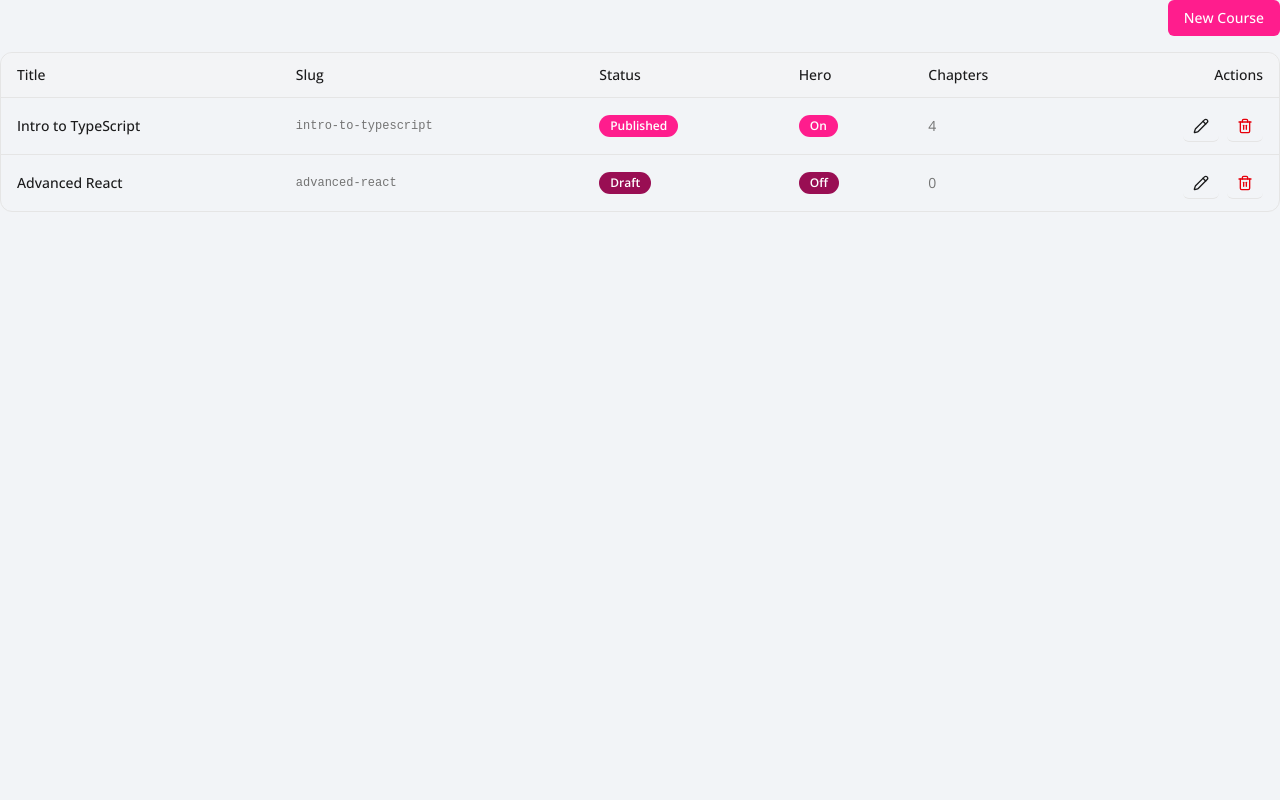
Test: CourseTableSection › opens create dialog when New Course is clicked
The width and height of the screenshot is (1280, 800).
What coordinates should you click on to do the following:
click the button "New Course"
I would click on:
 (1224, 18)
Its box is [1168,0,1279,36].
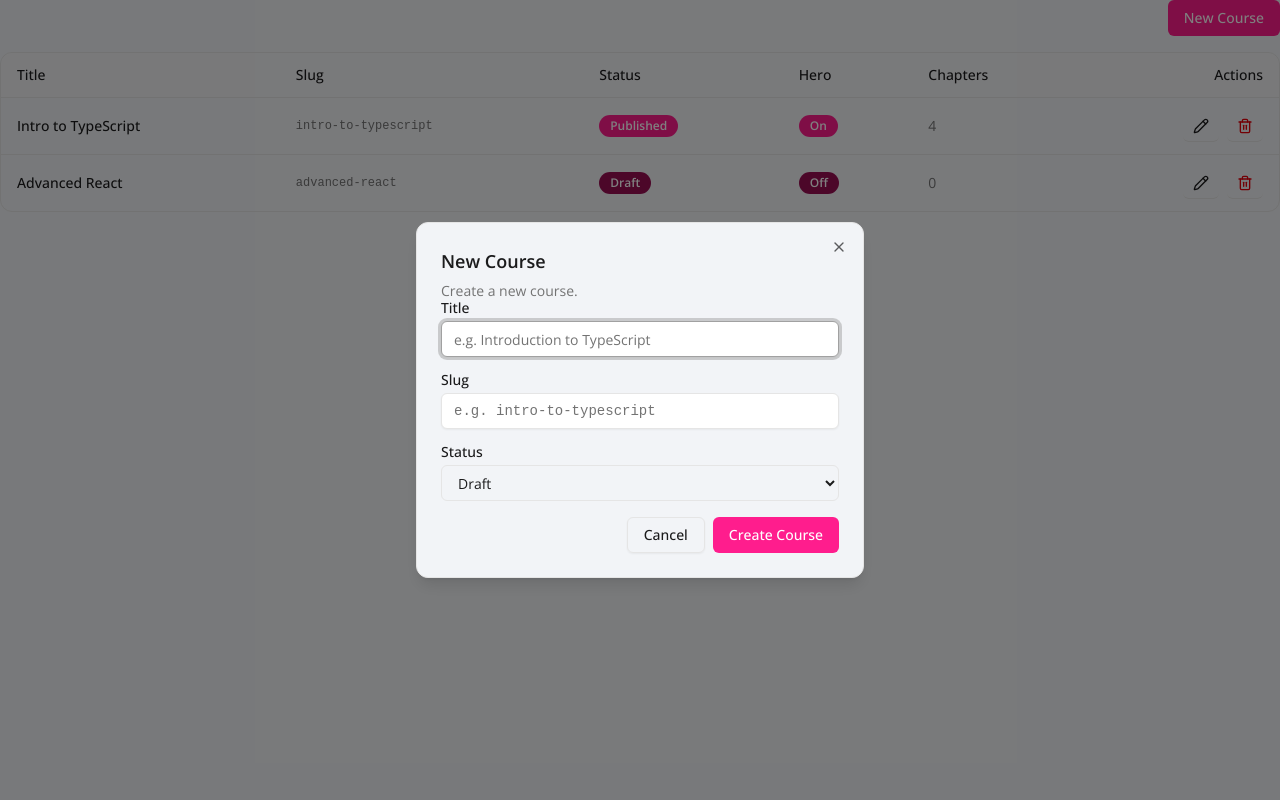
Check: the text "Create a new course." is shown, box [441,281,578,300]
